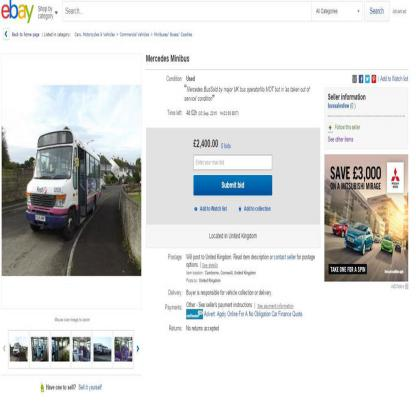Bus: (25, 126, 101, 241), (72, 336, 91, 361), (31, 337, 49, 363), (115, 335, 132, 360), (51, 337, 68, 361), (98, 343, 109, 355), (13, 342, 22, 356)
